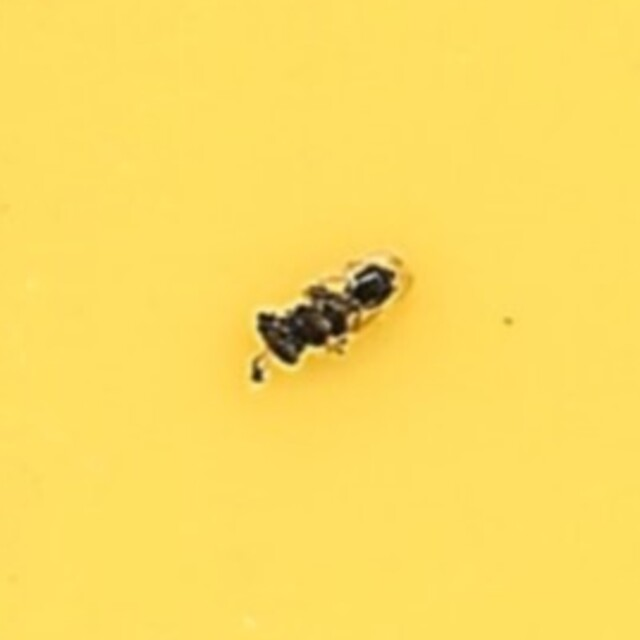Hymenoptera: (239, 249, 401, 391)
